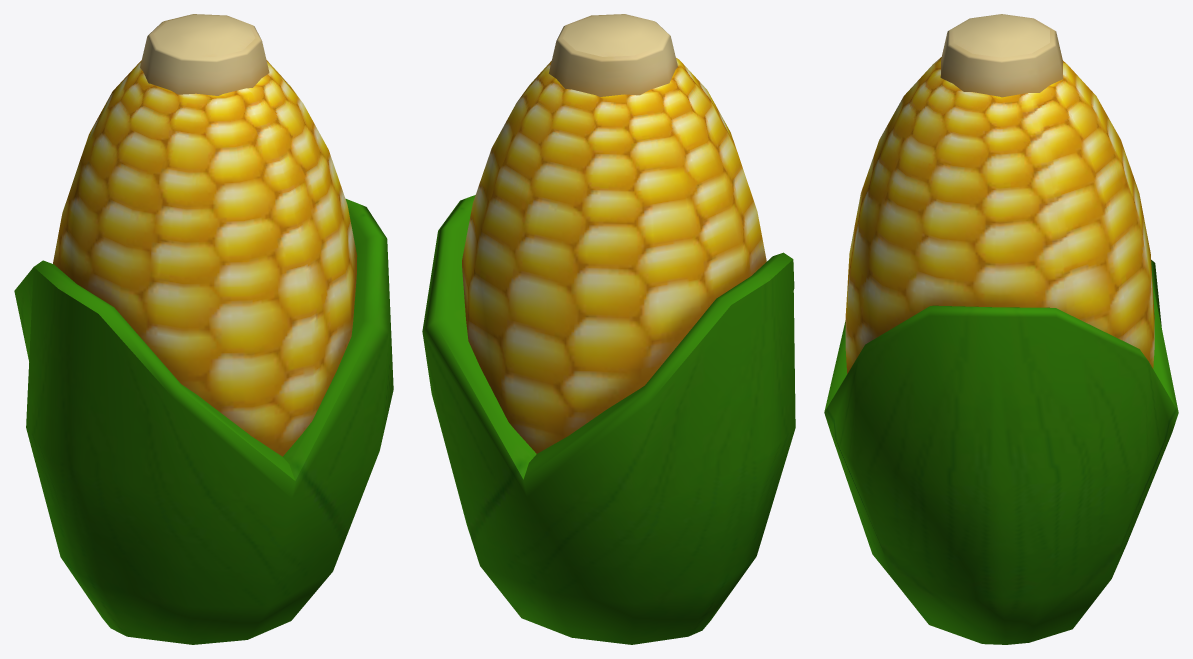
File: 0-corn.fbx
3 renders of one model, left to right at view 1: azimuth 30°, elevation 25°; view 2: azimuth 150°, elevation 25°; view 3: azimuth 270°, elevation 25°, orthographic.
Visible parts, largest first — view 1: 0-corn; view 2: 0-corn; view 3: 0-corn.
Part boxes in pixels (x1,y1,x2,y2): 0-corn: (14, 14, 393, 644); 0-corn: (422, 14, 795, 644); 0-corn: (824, 14, 1178, 644).
Size of the model in its own units: 51.46 by 92.26 by 49.98.
